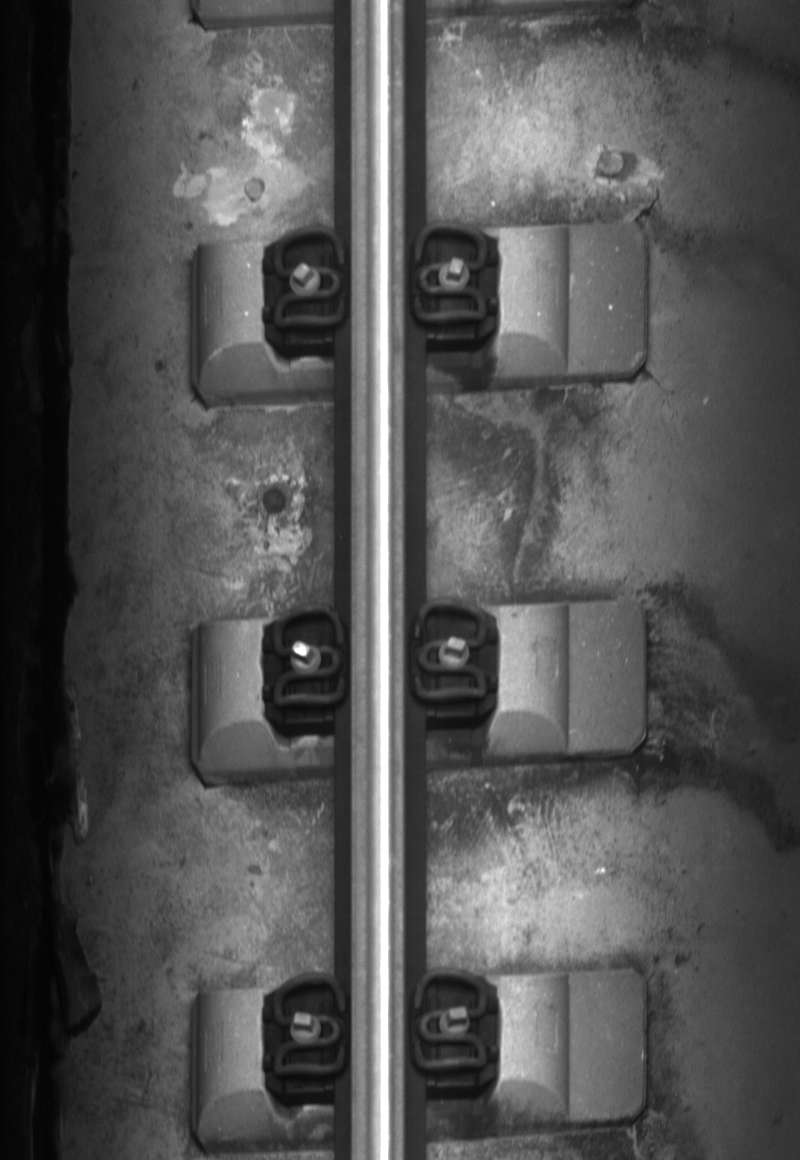l_faster: (266, 968, 349, 1089), (266, 601, 349, 718), (266, 221, 350, 336)
r_faster: (409, 596, 493, 707), (410, 966, 493, 1076), (410, 220, 493, 327)
